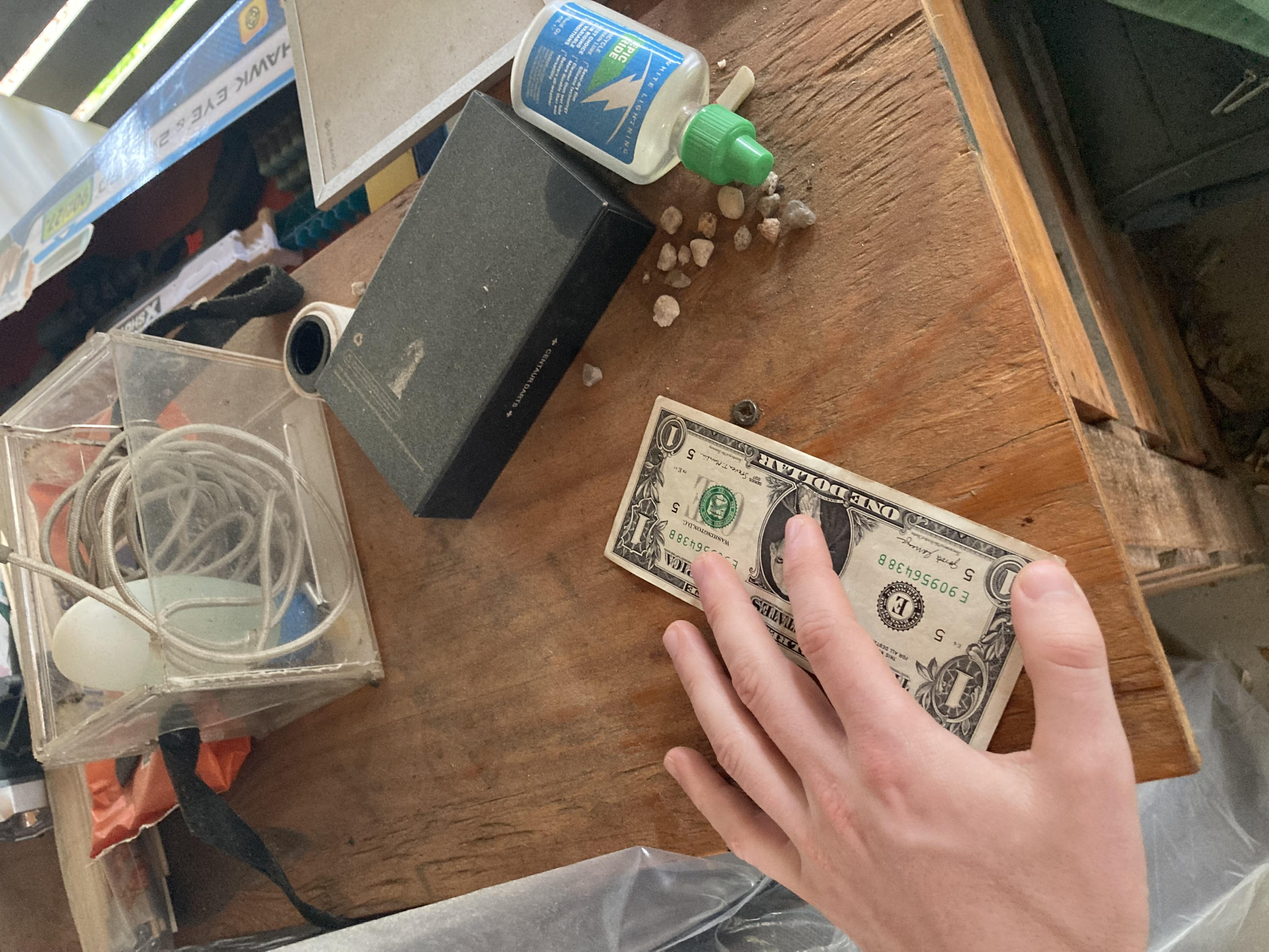one-front: (254, 452, 747, 802)
